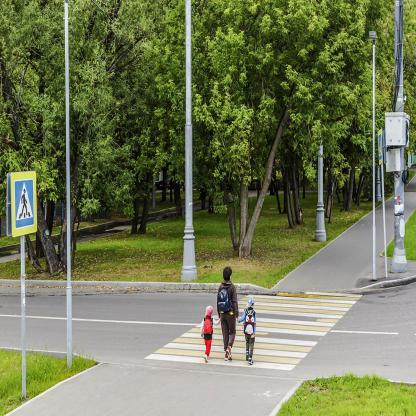road_sign: (6, 172, 36, 236)
